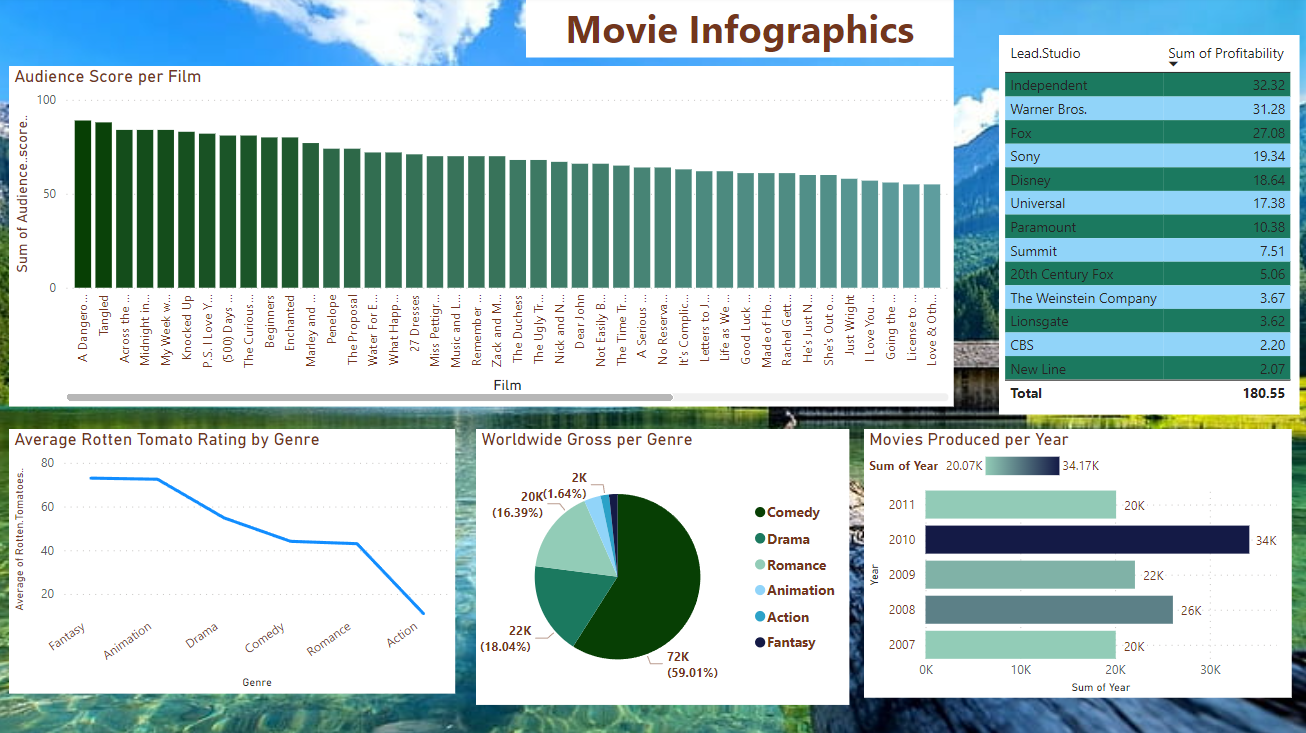

Layout of this report page (visuals, bound fields, positions):
{"tool":"powerbi","page":{"name":"Movie Infographics","canvas":[1280,720],"ordinal":0},"visuals":[{"type":"clusteredBarChart","title":"Movies Produced per Year","fields":{"Category":["clean_df (1).Year Hierarchy.Year"],"Y":["Sum(clean_df (1).Year)"]},"box":[847.2,421.1,417.2,262.2],"z":0},{"type":"lineChart","title":"Average Rotten Tomato Rating by Genre","fields":{"Category":["clean_df (1).Genre"],"Y":["Avg(clean_df (1).Rotten.Tomatoes..)"]},"box":[13.6,421.1,434.8,258.3],"z":1000},{"type":"lineClusteredColumnComboChart","title":"Audience Score per Film","fields":{"Category":["clean_df (1).Film"],"Y":["Sum(clean_df (1).Audience..score..)"]},"box":[13.6,67.3,921.2,332.4],"z":2000},{"type":"pieChart","title":"Worldwide Gross per Genre","fields":{"Category":["clean_df (1).Genre"],"Y":["Sum(clean_df (1).Year)"]},"box":[468.9,421.1,363.6,269.1],"z":3000},{"type":"tableEx","fields":{"Values":["clean_df (1).Lead.Studio","Sum(clean_df (1).Profitability)"]},"box":[978.8,37,293.4,370.4],"z":4000},{"type":"textbox","box":[517.7,0,417.2,59.5],"z":5000}]}

Visuals, with their boxes in screenshot pixels (x1, y1, x2, y2), scaled from the page's 1280x720 canvas onto the 1306x733 screenshot:
"Movies Produced per Year" clusteredBarChart: {"left": 864, "top": 429, "right": 1290, "bottom": 696}
"Average Rotten Tomato Rating by Genre" lineChart: {"left": 14, "top": 429, "right": 458, "bottom": 692}
"Audience Score per Film" lineClusteredColumnComboChart: {"left": 14, "top": 69, "right": 954, "bottom": 407}
"Worldwide Gross per Genre" pieChart: {"left": 478, "top": 429, "right": 849, "bottom": 703}
tableEx - clean_df (1).Lead.Studio x Sum(clean_df (1).Profitability): {"left": 999, "top": 38, "right": 1298, "bottom": 415}
textbox: {"left": 528, "top": 0, "right": 954, "bottom": 61}
